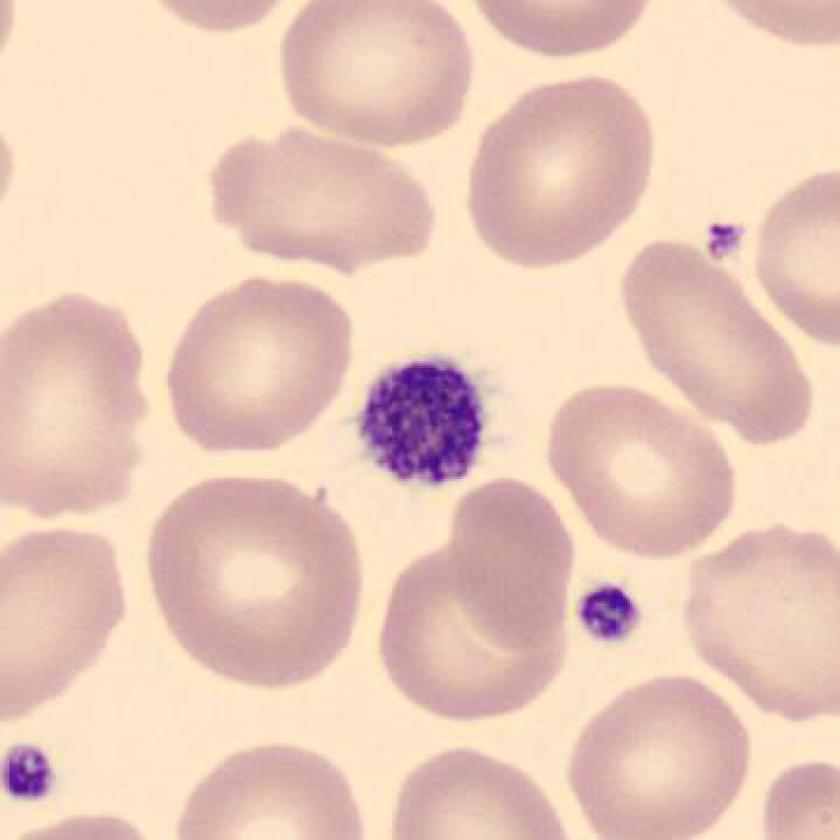platelets: (353, 351, 489, 490), (1, 732, 59, 813), (580, 577, 645, 649)
